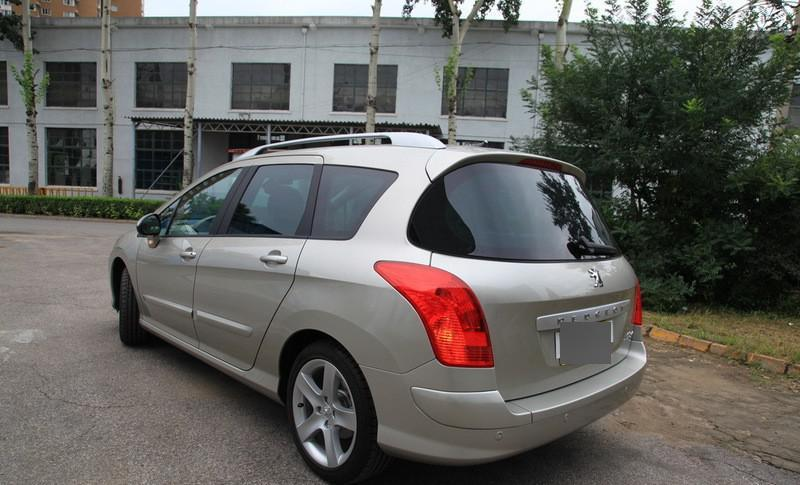Wagon: (107, 131, 648, 485)
